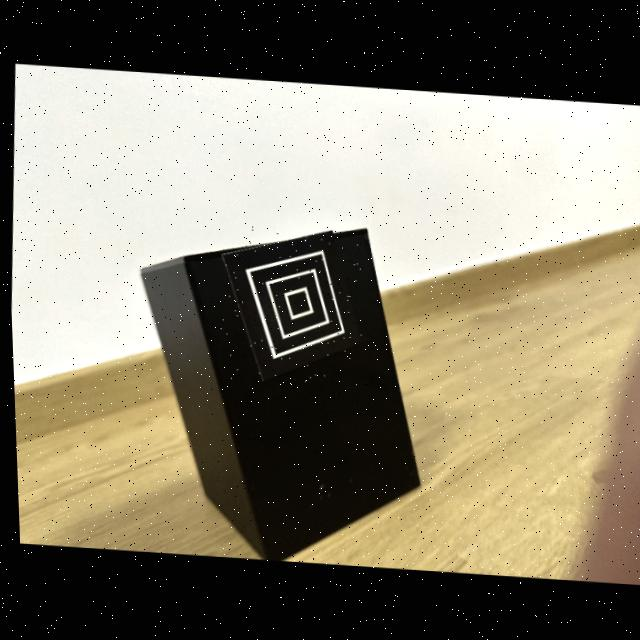BULLSEYE: (221, 229, 362, 381)
